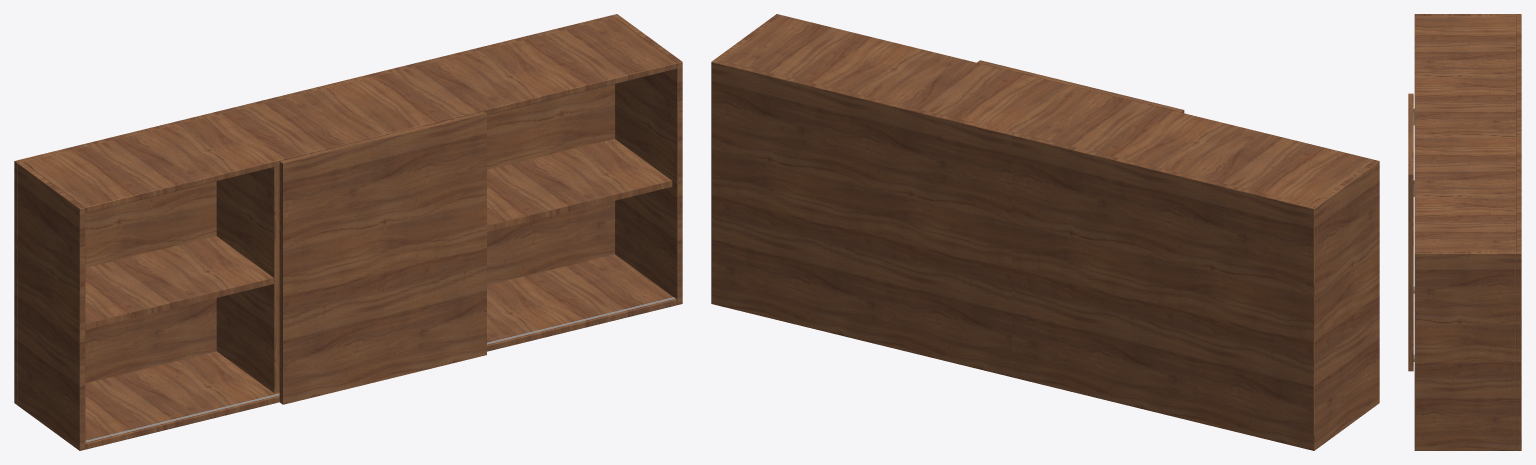
Rendered from ext_cabinet_one_float_door_2OH_200x40x76_FINAL.fbx.
3 renders of one model, left to right at view 1: azimuth 30°, elevation 25°; view 2: azimuth 150°, elevation 25°; view 3: azimuth 270°, elevation 25°, orthographic. The views are drawn at different scales.
Parts seen in each view (by area): view 1: polySurface1, M2.I2; view 2: polySurface1; view 3: polySurface1.
Part boxes in pixels (x1,y1,x2,y2): polySurface1: (14, 14, 682, 450); M2.I2: (85, 297, 675, 442); polySurface1: (711, 14, 1379, 450); polySurface1: (1408, 14, 1521, 450).
Size of the model in its own units: 200 by 76.8 by 39.9.
